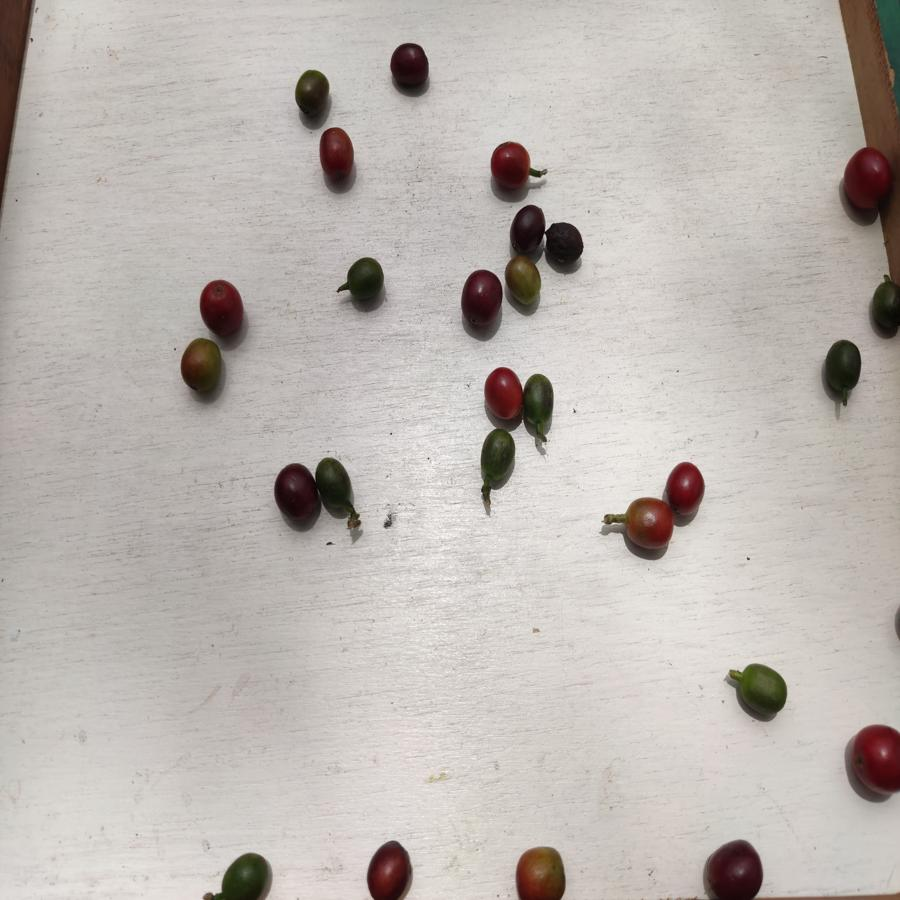Inmaduro: (736, 663, 790, 718), (221, 852, 272, 900), (823, 337, 864, 395), (478, 429, 518, 483), (867, 279, 900, 340), (317, 457, 354, 511), (345, 256, 386, 304), (521, 373, 558, 425)
Maduro: (851, 720, 900, 801), (841, 146, 892, 217), (199, 278, 246, 339), (665, 457, 706, 518), (489, 139, 533, 195), (317, 127, 358, 185), (481, 367, 523, 422)
Pinton: (624, 495, 676, 555), (514, 844, 569, 900), (177, 339, 223, 394), (504, 256, 544, 310), (293, 69, 331, 114)
Sobremaduro: (703, 836, 767, 900), (362, 839, 414, 900), (458, 270, 507, 334), (273, 460, 317, 531), (389, 43, 432, 92), (545, 220, 583, 269), (508, 205, 546, 253)
